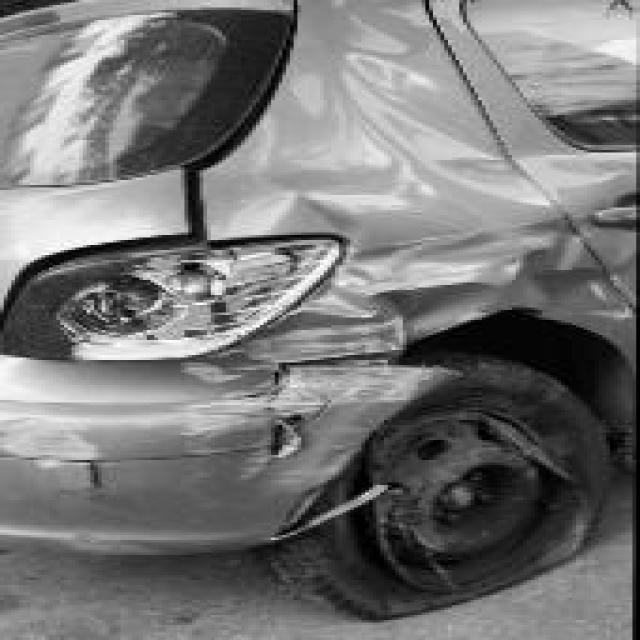Bumper: (0, 350, 417, 548)
Light: (0, 232, 359, 370)
